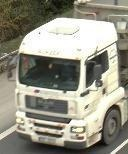truck: (15, 0, 128, 149)
